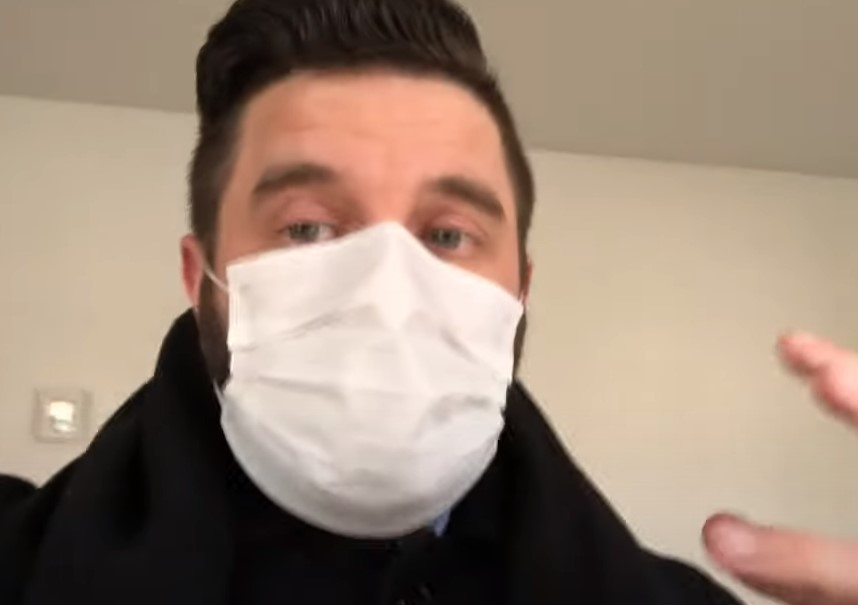face_with_mask: (182, 0, 541, 547)
